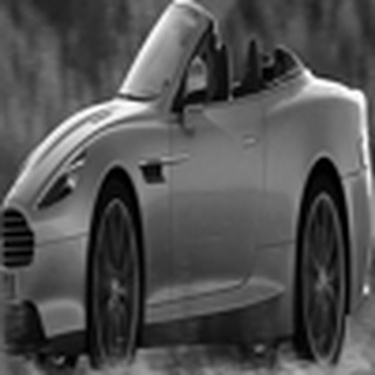car: (4, 4, 372, 374)
